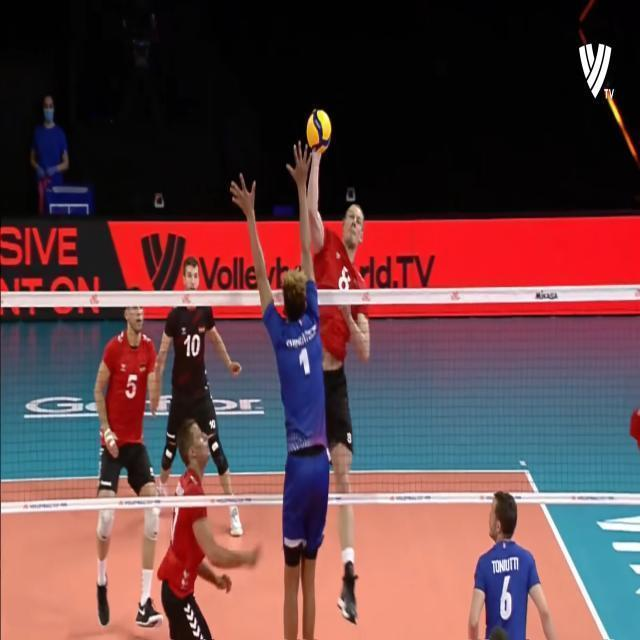volleyball: (306, 110, 332, 152)
